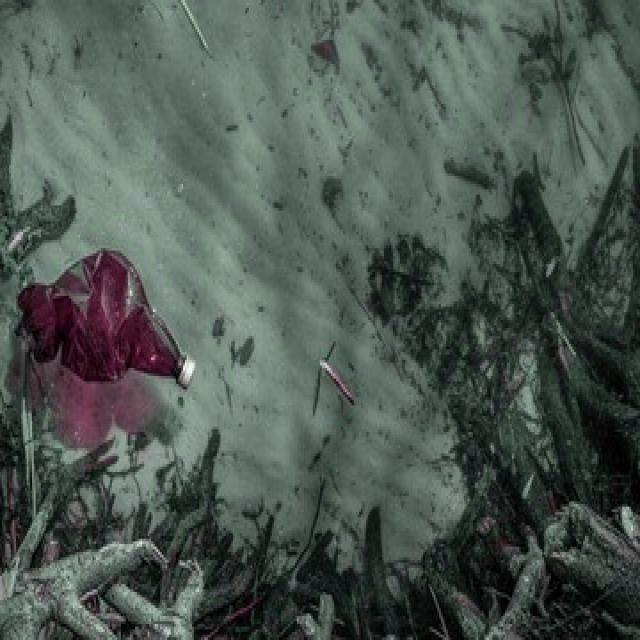Plastic: (14, 245, 196, 391)
